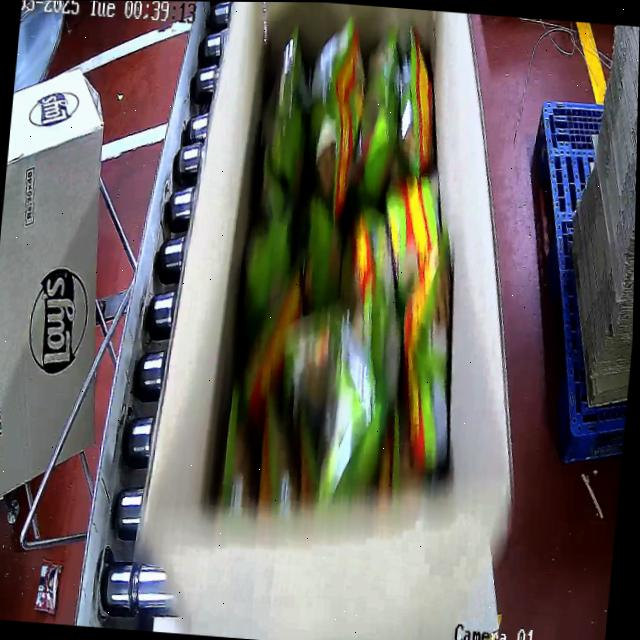YOGURT_HERB: (218, 5, 486, 545)
